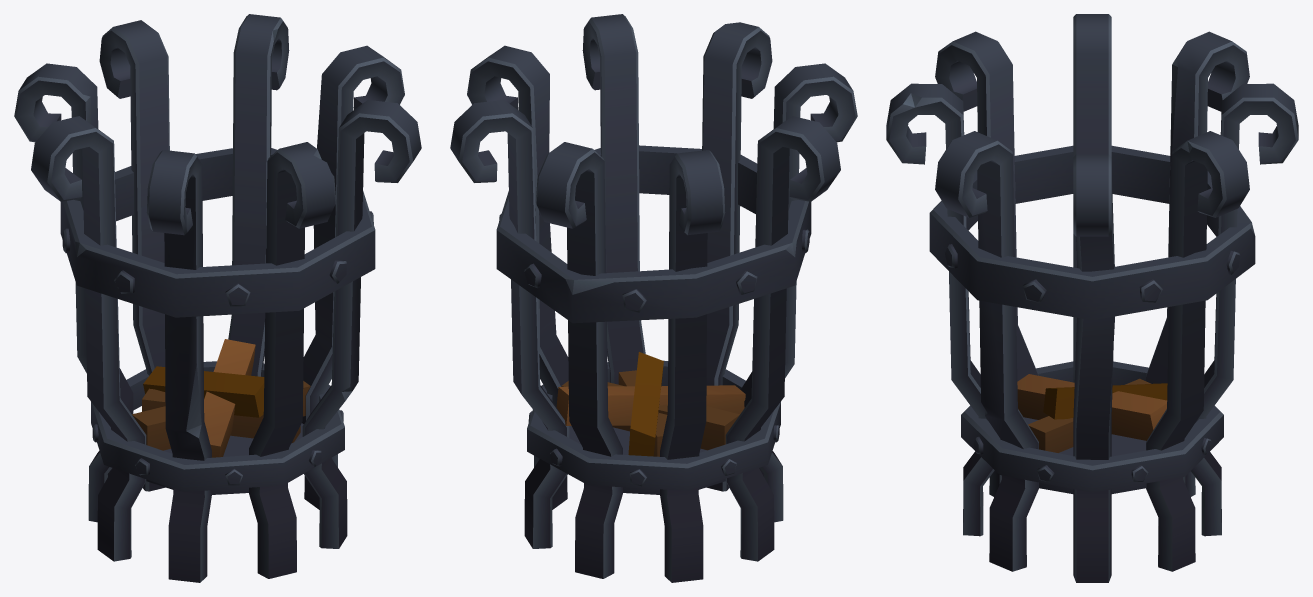
The model's file is FirePlace_1_2_E.glb.
The picture shows the model from 3 angles, left to right: view 1: azimuth 30°, elevation 25°; view 2: azimuth 150°, elevation 25°; view 3: azimuth 270°, elevation 25°; orthographic projection.
Visible parts, largest first — view 1: FirePlace_1_2_E; view 2: FirePlace_1_2_E; view 3: FirePlace_1_2_E.
Part boxes in pixels (x1,y1,x2,y2): FirePlace_1_2_E: (14,14,421,582); FirePlace_1_2_E: (450,14,857,582); FirePlace_1_2_E: (886,14,1298,582).
Size of the model in its own units: 0.7082 by 0.8289 by 0.7082.
2 materials, 2 textured.
